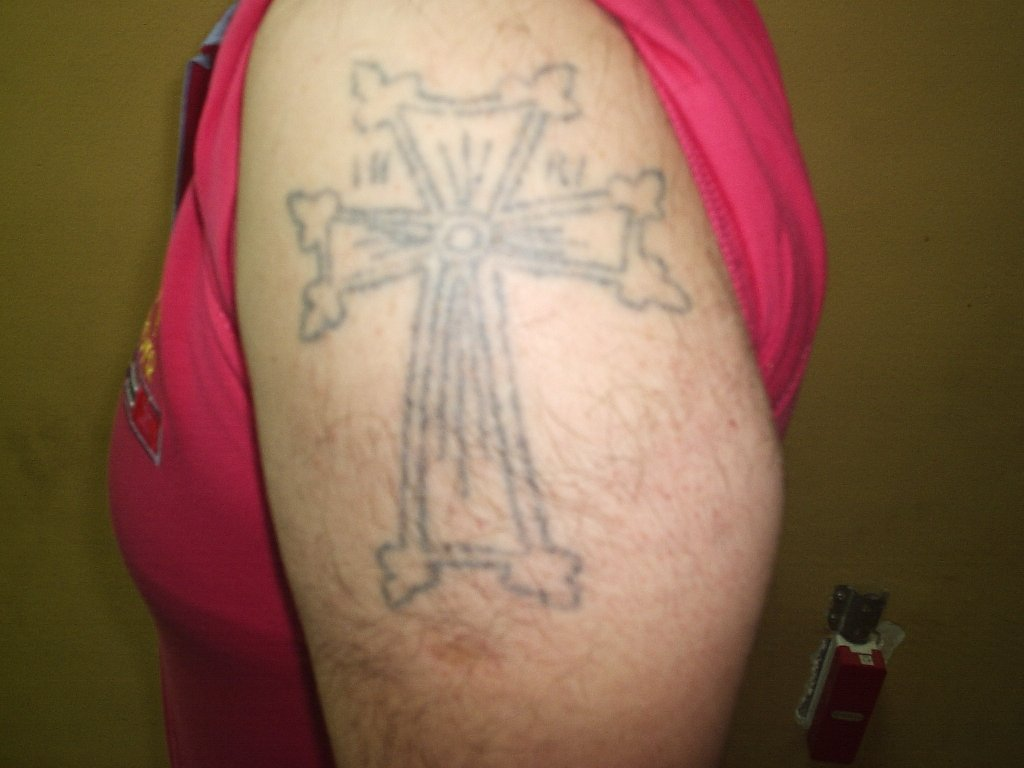tatu9_krest: (276, 51, 722, 641)
